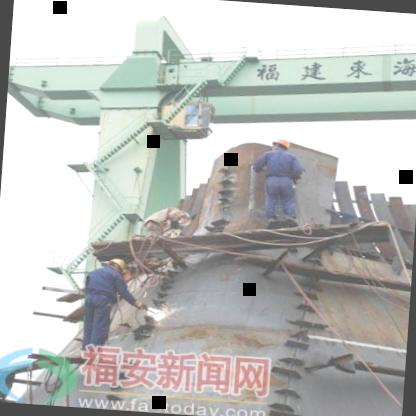helmet: (102, 256, 126, 274), (268, 137, 290, 156)
